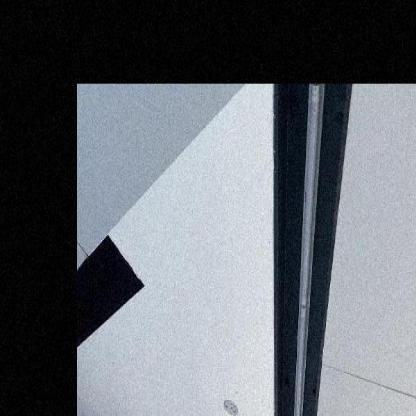light_off: (282, 87, 336, 415)
